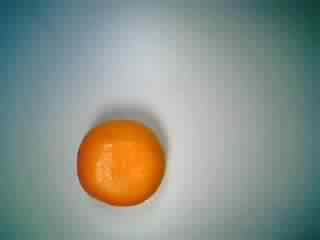orange: (73, 111, 166, 207)
